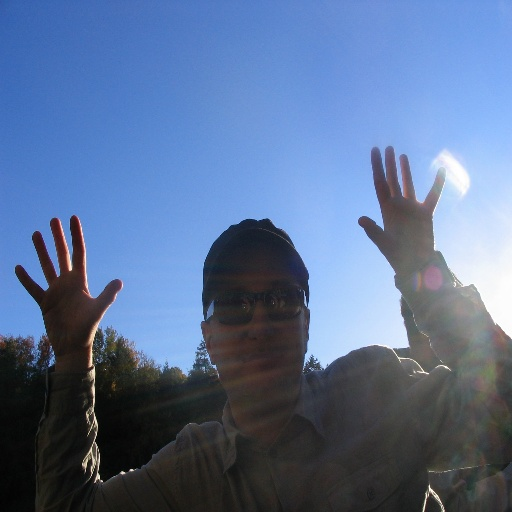hand: (13, 213, 121, 358), (358, 144, 446, 276), (398, 356, 424, 372)
